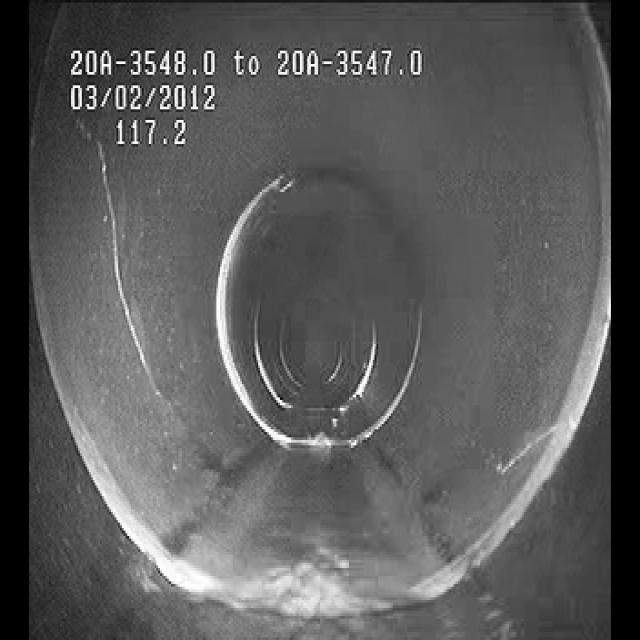Crack: (86, 181, 176, 423)
